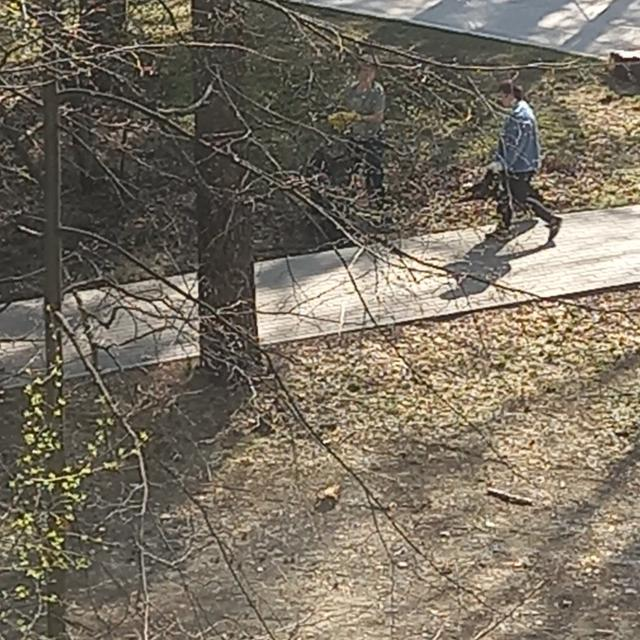person: (487, 80, 561, 241), (329, 57, 385, 204)
